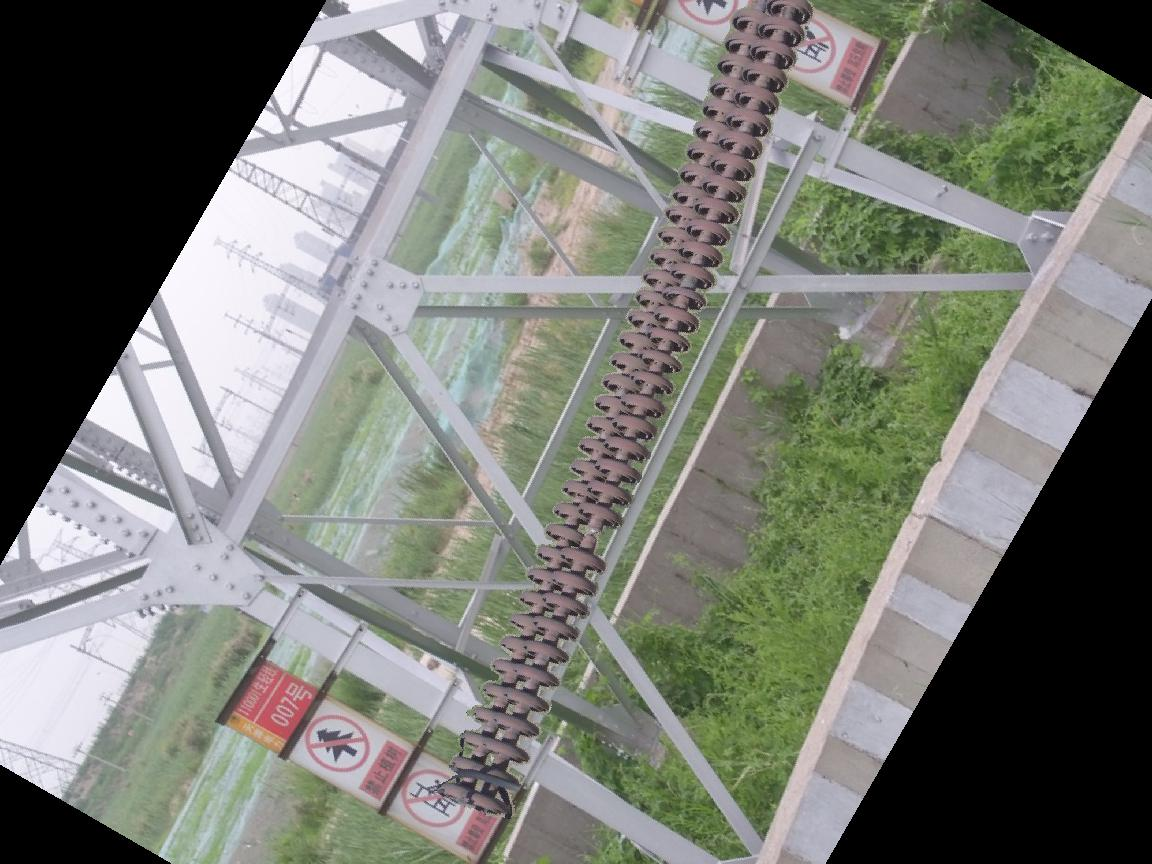insulator: (433, 1, 820, 820)
insulator_stringdrop: (557, 498, 625, 577)
